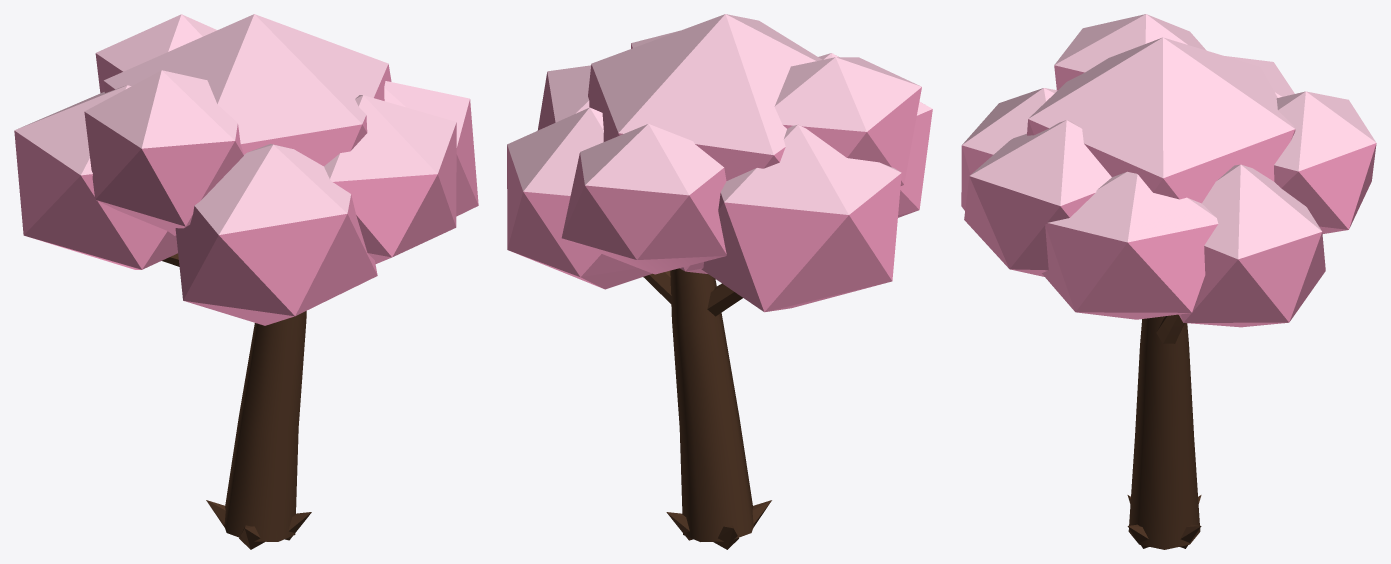
File: CherryBlossomTree.fbx
3 views of the same model, side by side, from view 1: azimuth 30°, elevation 25°; view 2: azimuth 150°, elevation 25°; view 3: azimuth 270°, elevation 25° (orthographic). The views are drawn at different scales.
Parts seen in each view (by area): view 1: CherryBlossomTree; view 2: CherryBlossomTree; view 3: CherryBlossomTree.
Part boxes in pixels (box(x1,y1,x2,y2)): CherryBlossomTree: box(14, 14, 478, 549); CherryBlossomTree: box(507, 14, 932, 549); CherryBlossomTree: box(961, 14, 1376, 549).
Size of the model in its own units: 9.78 by 12.39 by 9.32.
Materials: 1 (1 with a texture image).
